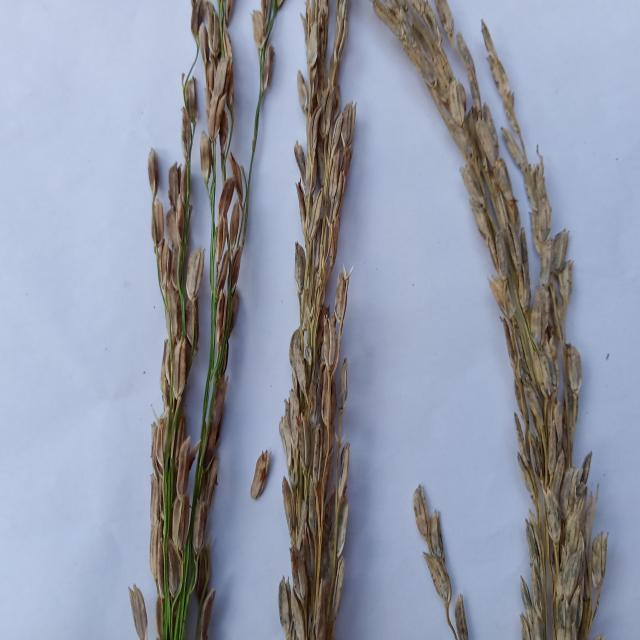Neck_Blast: (367, 1, 625, 640), (267, 0, 362, 640), (150, 0, 239, 565)
